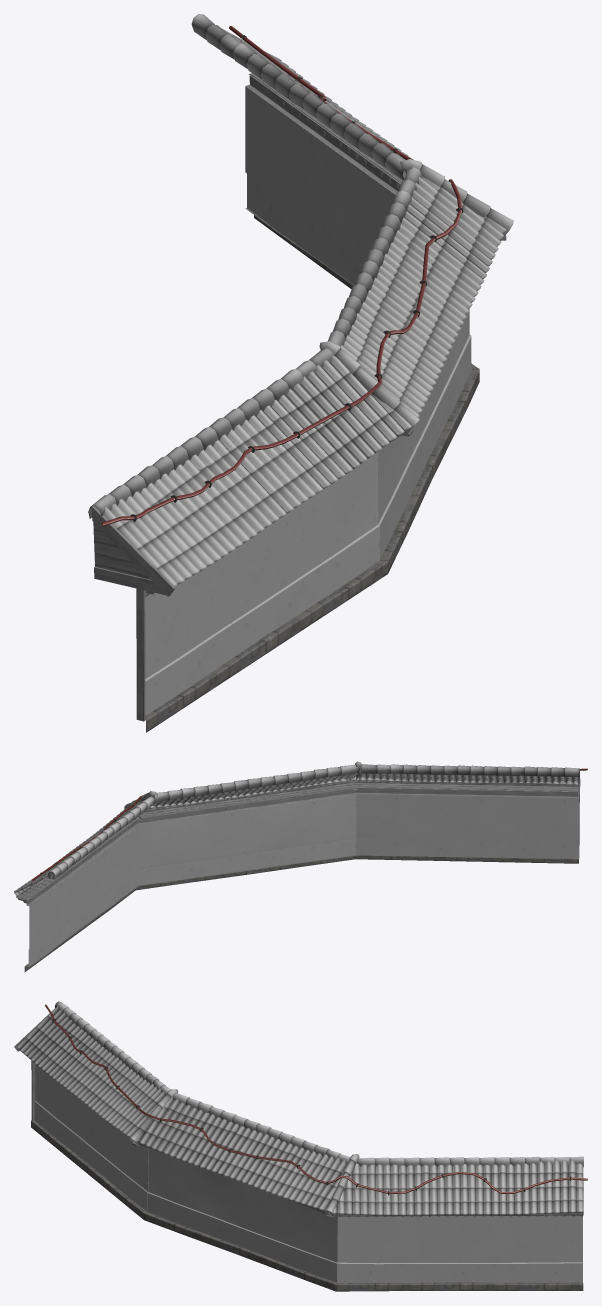
The model's file is SM_ENV_LKNVLD_Hokage_Gate_Wall.FBX.
3 renders of one model, top to bottom at view 1: azimuth 30°, elevation 25°; view 2: azimuth 150°, elevation 25°; view 3: azimuth 270°, elevation 25°, orthographic. The views are drawn at different scales.
Parts seen in each view (by area): view 1: SM_ENV_LKNVLD_Hokage_Gate_Wall; view 2: SM_ENV_LKNVLD_Hokage_Gate_Wall; view 3: SM_ENV_LKNVLD_Hokage_Gate_Wall.
Boxes of the visible parts, x1=… form: SM_ENV_LKNVLD_Hokage_Gate_Wall: x1=88, y1=14, x2=513, y2=732; SM_ENV_LKNVLD_Hokage_Gate_Wall: x1=14, y1=761, x2=587, y2=971; SM_ENV_LKNVLD_Hokage_Gate_Wall: x1=14, y1=1001, x2=587, y2=1291.
Size of the model in its own units: 1899 by 607 by 2560.
